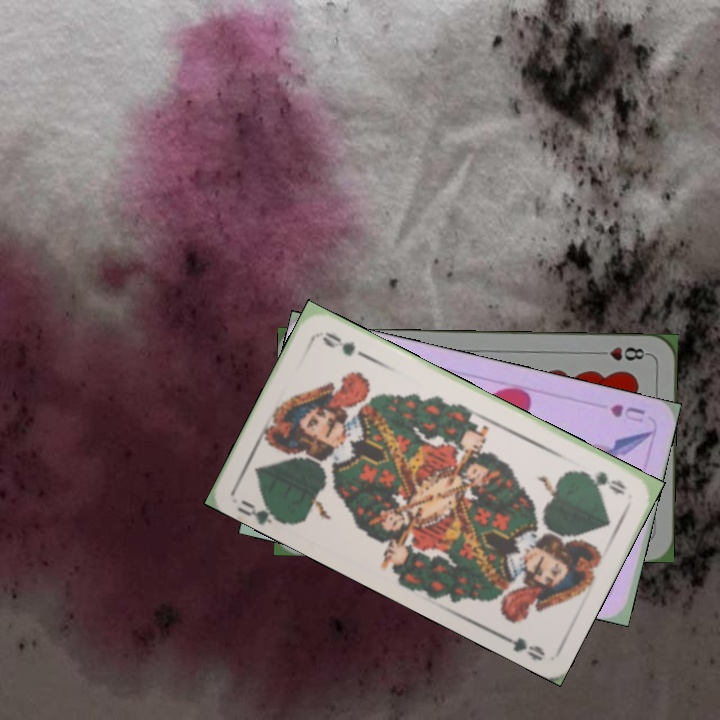GO: (234, 493, 289, 527), (574, 466, 630, 497)
H8: (592, 342, 651, 363)
HU: (605, 400, 648, 425)
